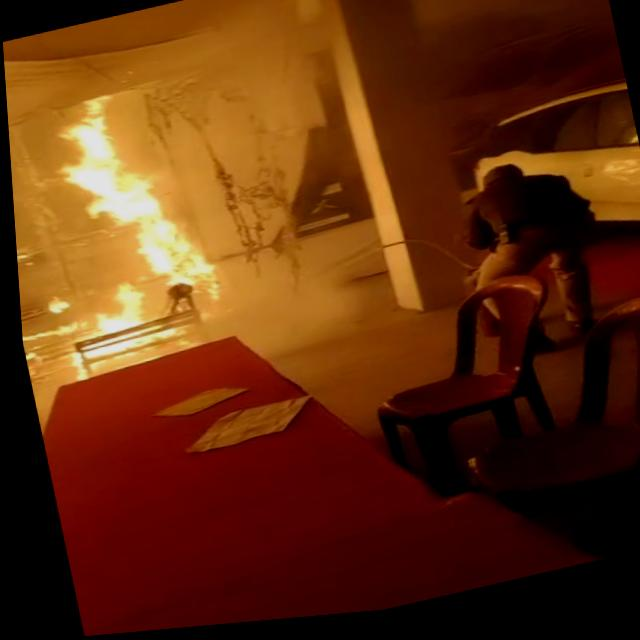helmet: (38, 75, 227, 335)
